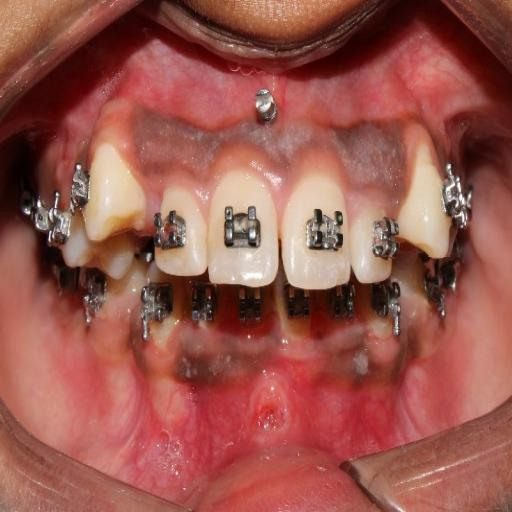correct_brace: (151, 201, 189, 266), (304, 199, 343, 259), (438, 162, 474, 223), (222, 199, 260, 254), (66, 162, 100, 218), (370, 215, 398, 266)
incorrect_brace: (153, 181, 207, 279), (352, 194, 394, 285)
